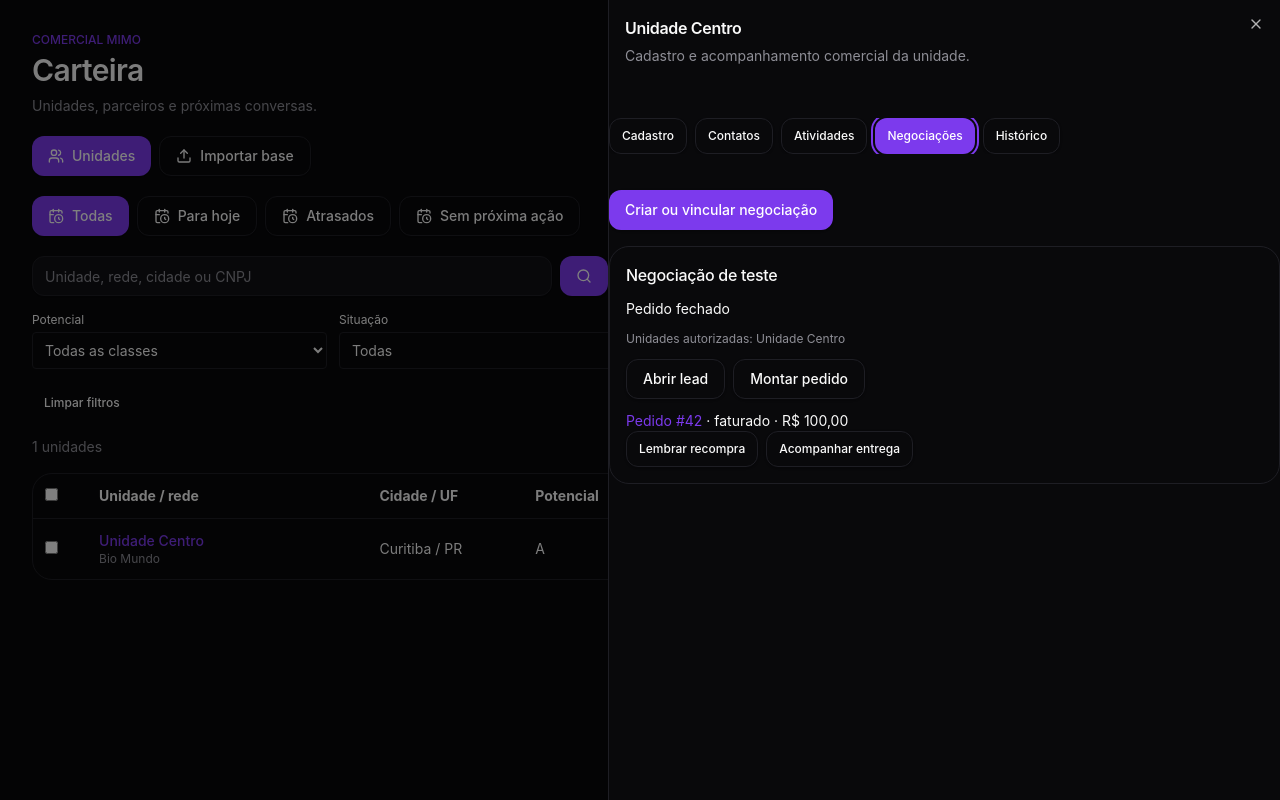
Scenario: agenda Lembrar recompra com prazo manual e referência ao pedido
Earlier steps of the test are not shown.
Step 1. Click the button "Lembrar recompra" → (692, 449), box [626,431,758,467]
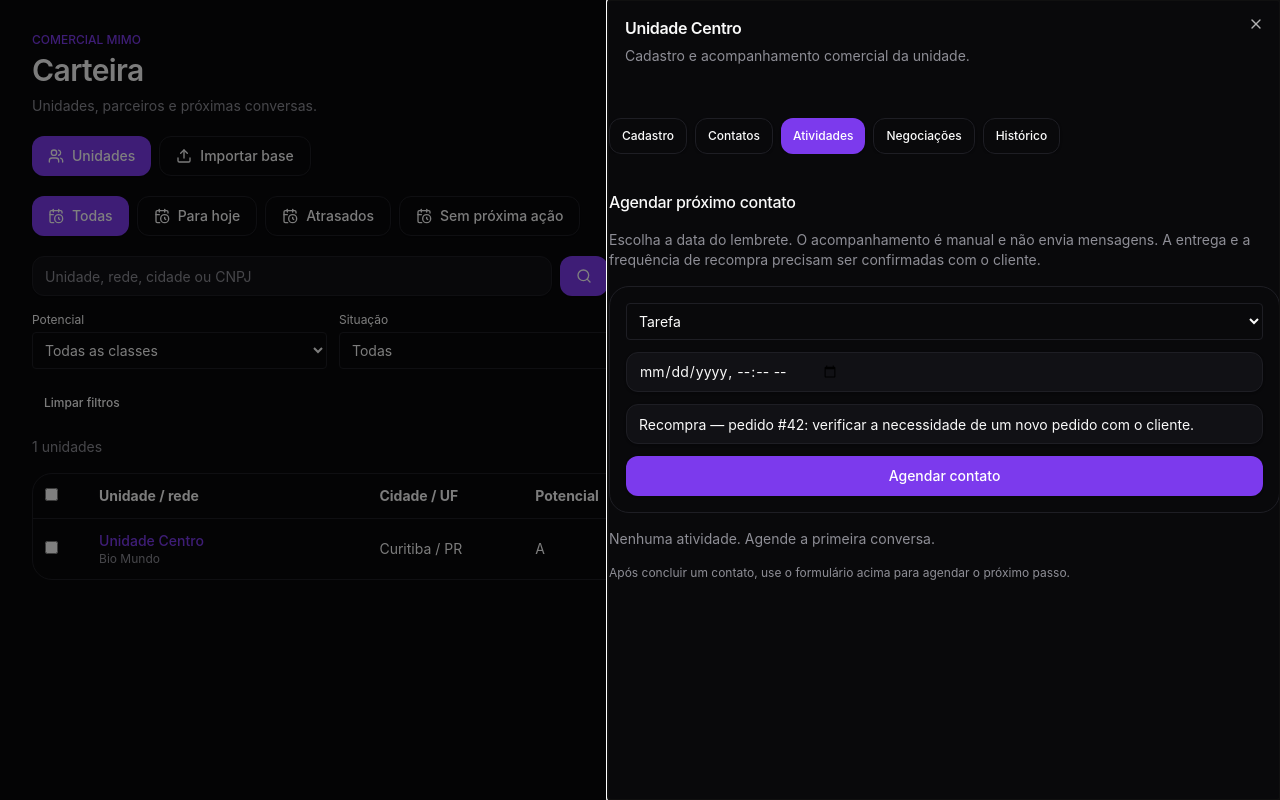
expect the field named "Prazo da atividade" is empty: met
expect the dropdown named "Tipo de atividade" shows "Tarefa": met, box [626,303,1263,340]
Step 2. Type "2026-11-20T10:00" into the field named "Prazo da atividade" → (944, 372), box [626,352,1263,392]
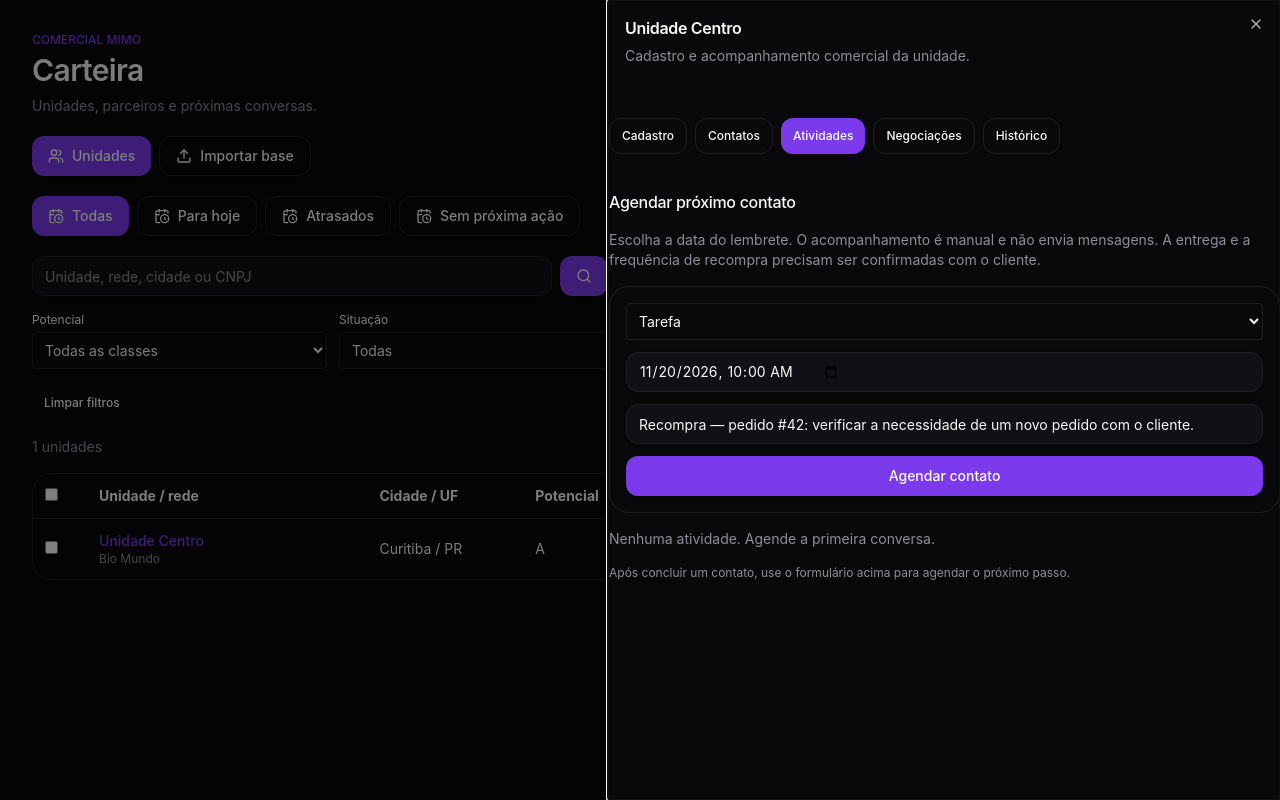
Step 3. Click the button "Agendar contato" → (944, 476), box [626,456,1263,496]
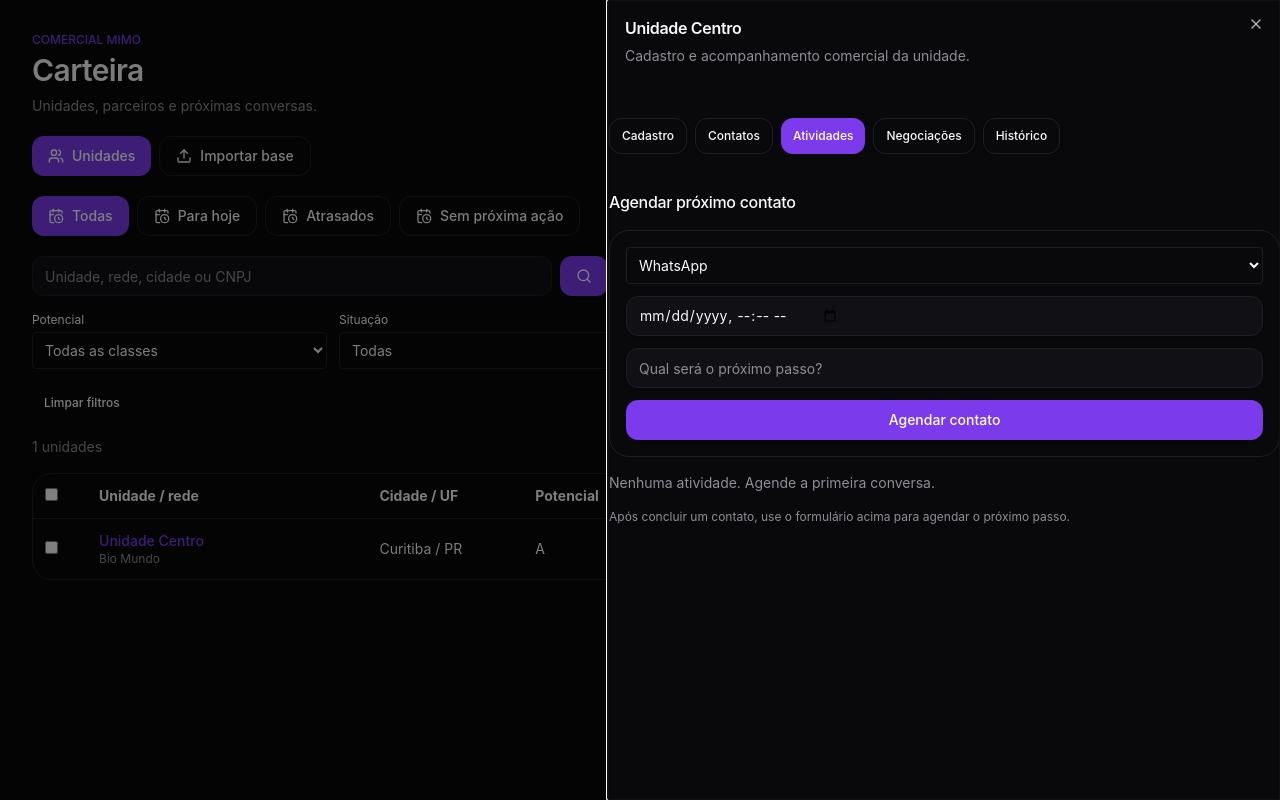
expect the field labelled "próximo passo" is empty: met, box [626,348,1263,388]
